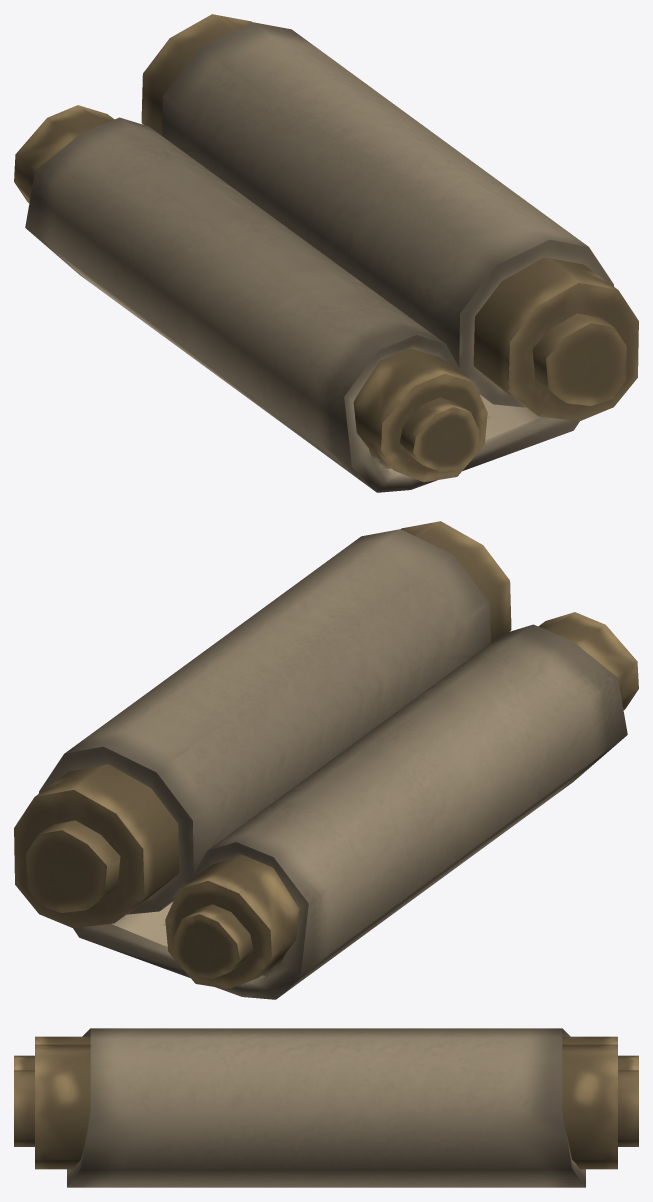
The model's file is ClosedScroll.gltf.
3 renders of one model, top to bottom at view 1: azimuth 30°, elevation 25°; view 2: azimuth 150°, elevation 25°; view 3: azimuth 270°, elevation 25°, orthographic. The views are drawn at different scales.
Visible parts, largest first — view 1: ClosedScroll; view 2: ClosedScroll; view 3: ClosedScroll.
Boxes of the visible parts, box(x1,y1,x2,y2) form: ClosedScroll: box(14, 14, 638, 492); ClosedScroll: box(14, 521, 638, 999); ClosedScroll: box(14, 1028, 638, 1187).
Size of the model in its own units: 0.3051 by 0.2252 by 0.7416.
Materials: 1 (1 with a texture image).
